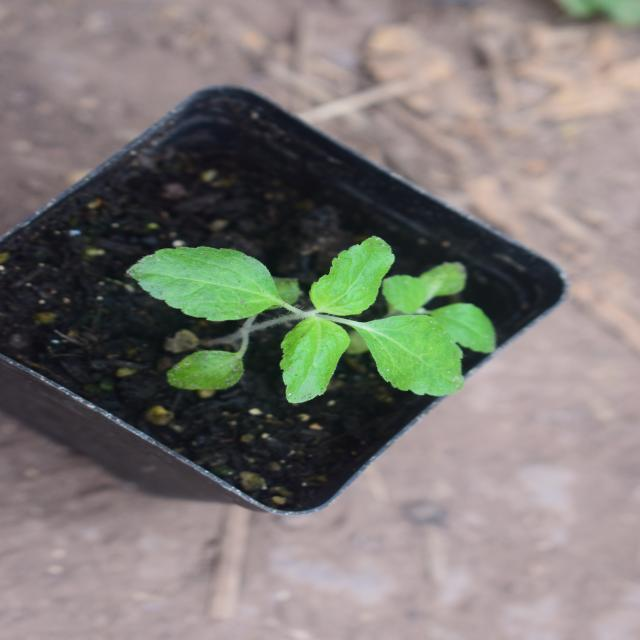billygoat_weed: (235, 151, 405, 520)
